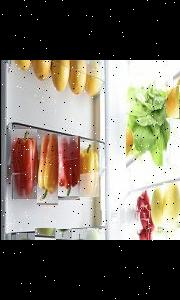Lechuga/Endivia: (125, 75, 172, 168)
Limón: (164, 85, 178, 118)
Manzana: (162, 184, 180, 230), (150, 186, 166, 231), (34, 228, 55, 240), (54, 229, 71, 240), (86, 228, 101, 240), (71, 228, 85, 240)
Pimiento: (10, 130, 36, 200), (55, 136, 79, 198), (36, 134, 57, 204), (77, 141, 98, 196)
